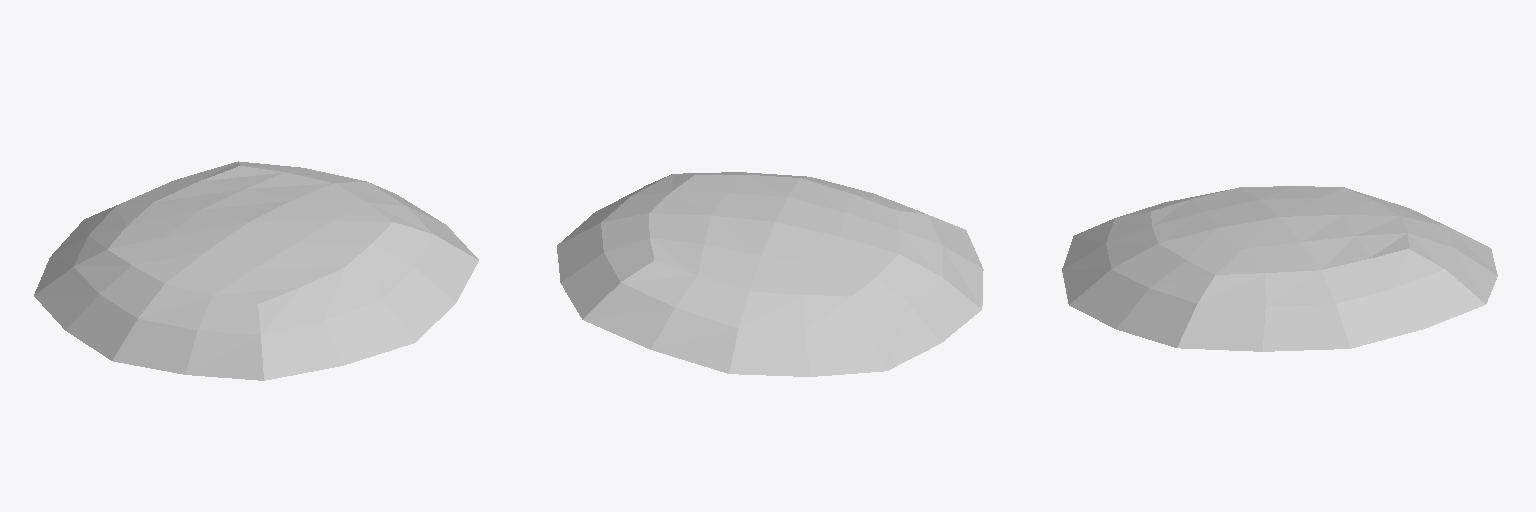
Rendered from slice_01.obj.
3 renders of one model, left to right at view 1: azimuth 30°, elevation 25°; view 2: azimuth 150°, elevation 25°; view 3: azimuth 270°, elevation 25°, orthographic.
Visible parts, largest first — view 1: Mushroom.002_Cube.009; view 2: Mushroom.002_Cube.009; view 3: Mushroom.002_Cube.009.
Boxes of the visible parts, x1=… form: Mushroom.002_Cube.009: x1=34, y1=161, x2=478, y2=380; Mushroom.002_Cube.009: x1=557, y1=172, x2=983, y2=376; Mushroom.002_Cube.009: x1=1062, y1=186, x2=1497, y2=351.
Size of the model in its own units: 0.7904 by 0.1524 by 0.8203.